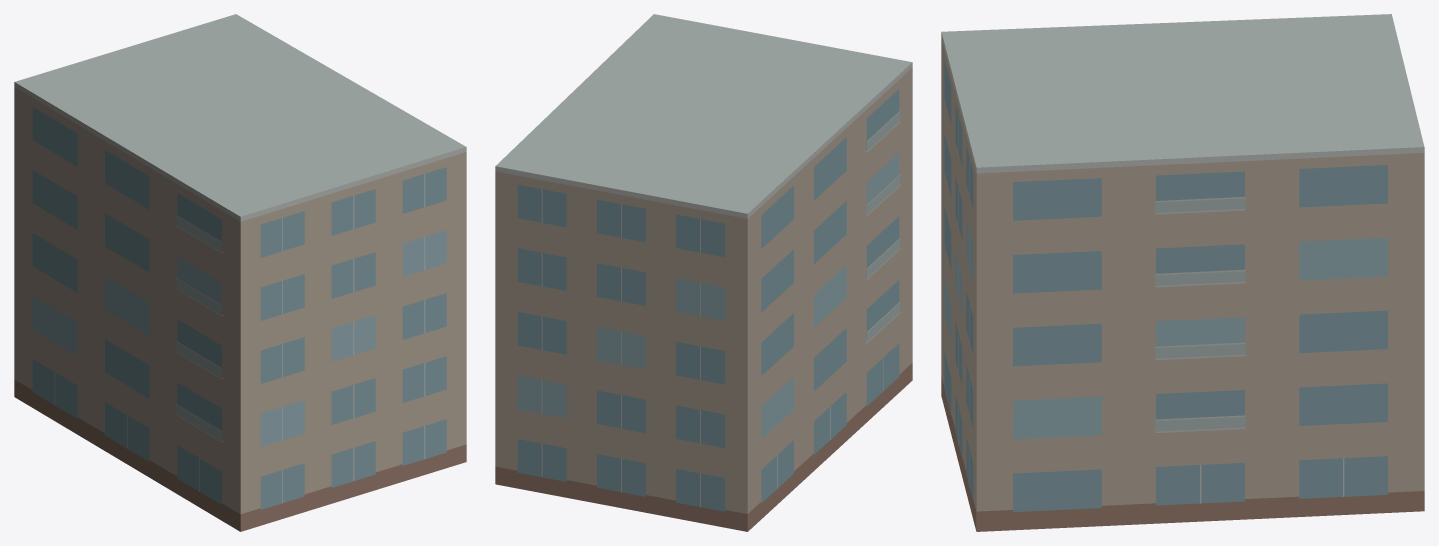
File: survey-upis-32569617.glb
3 renders of one model, left to right at view 1: azimuth 30°, elevation 25°; view 2: azimuth 150°, elevation 25°; view 3: azimuth 270°, elevation 25°, orthographic. The views are drawn at different scales.
Parts seen in each view (by area): view 1: survey-upis-32569617.tmp; view 2: survey-upis-32569617.tmp; view 3: survey-upis-32569617.tmp.
Boxes of the visible parts, left/top/right/bottom form: survey-upis-32569617.tmp: left=14, top=14, right=466, bottom=531; survey-upis-32569617.tmp: left=495, top=14, right=912, bottom=531; survey-upis-32569617.tmp: left=941, top=14, right=1424, bottom=531.
Size of the model in its own units: 13.81 by 15.25 by 18.34.
